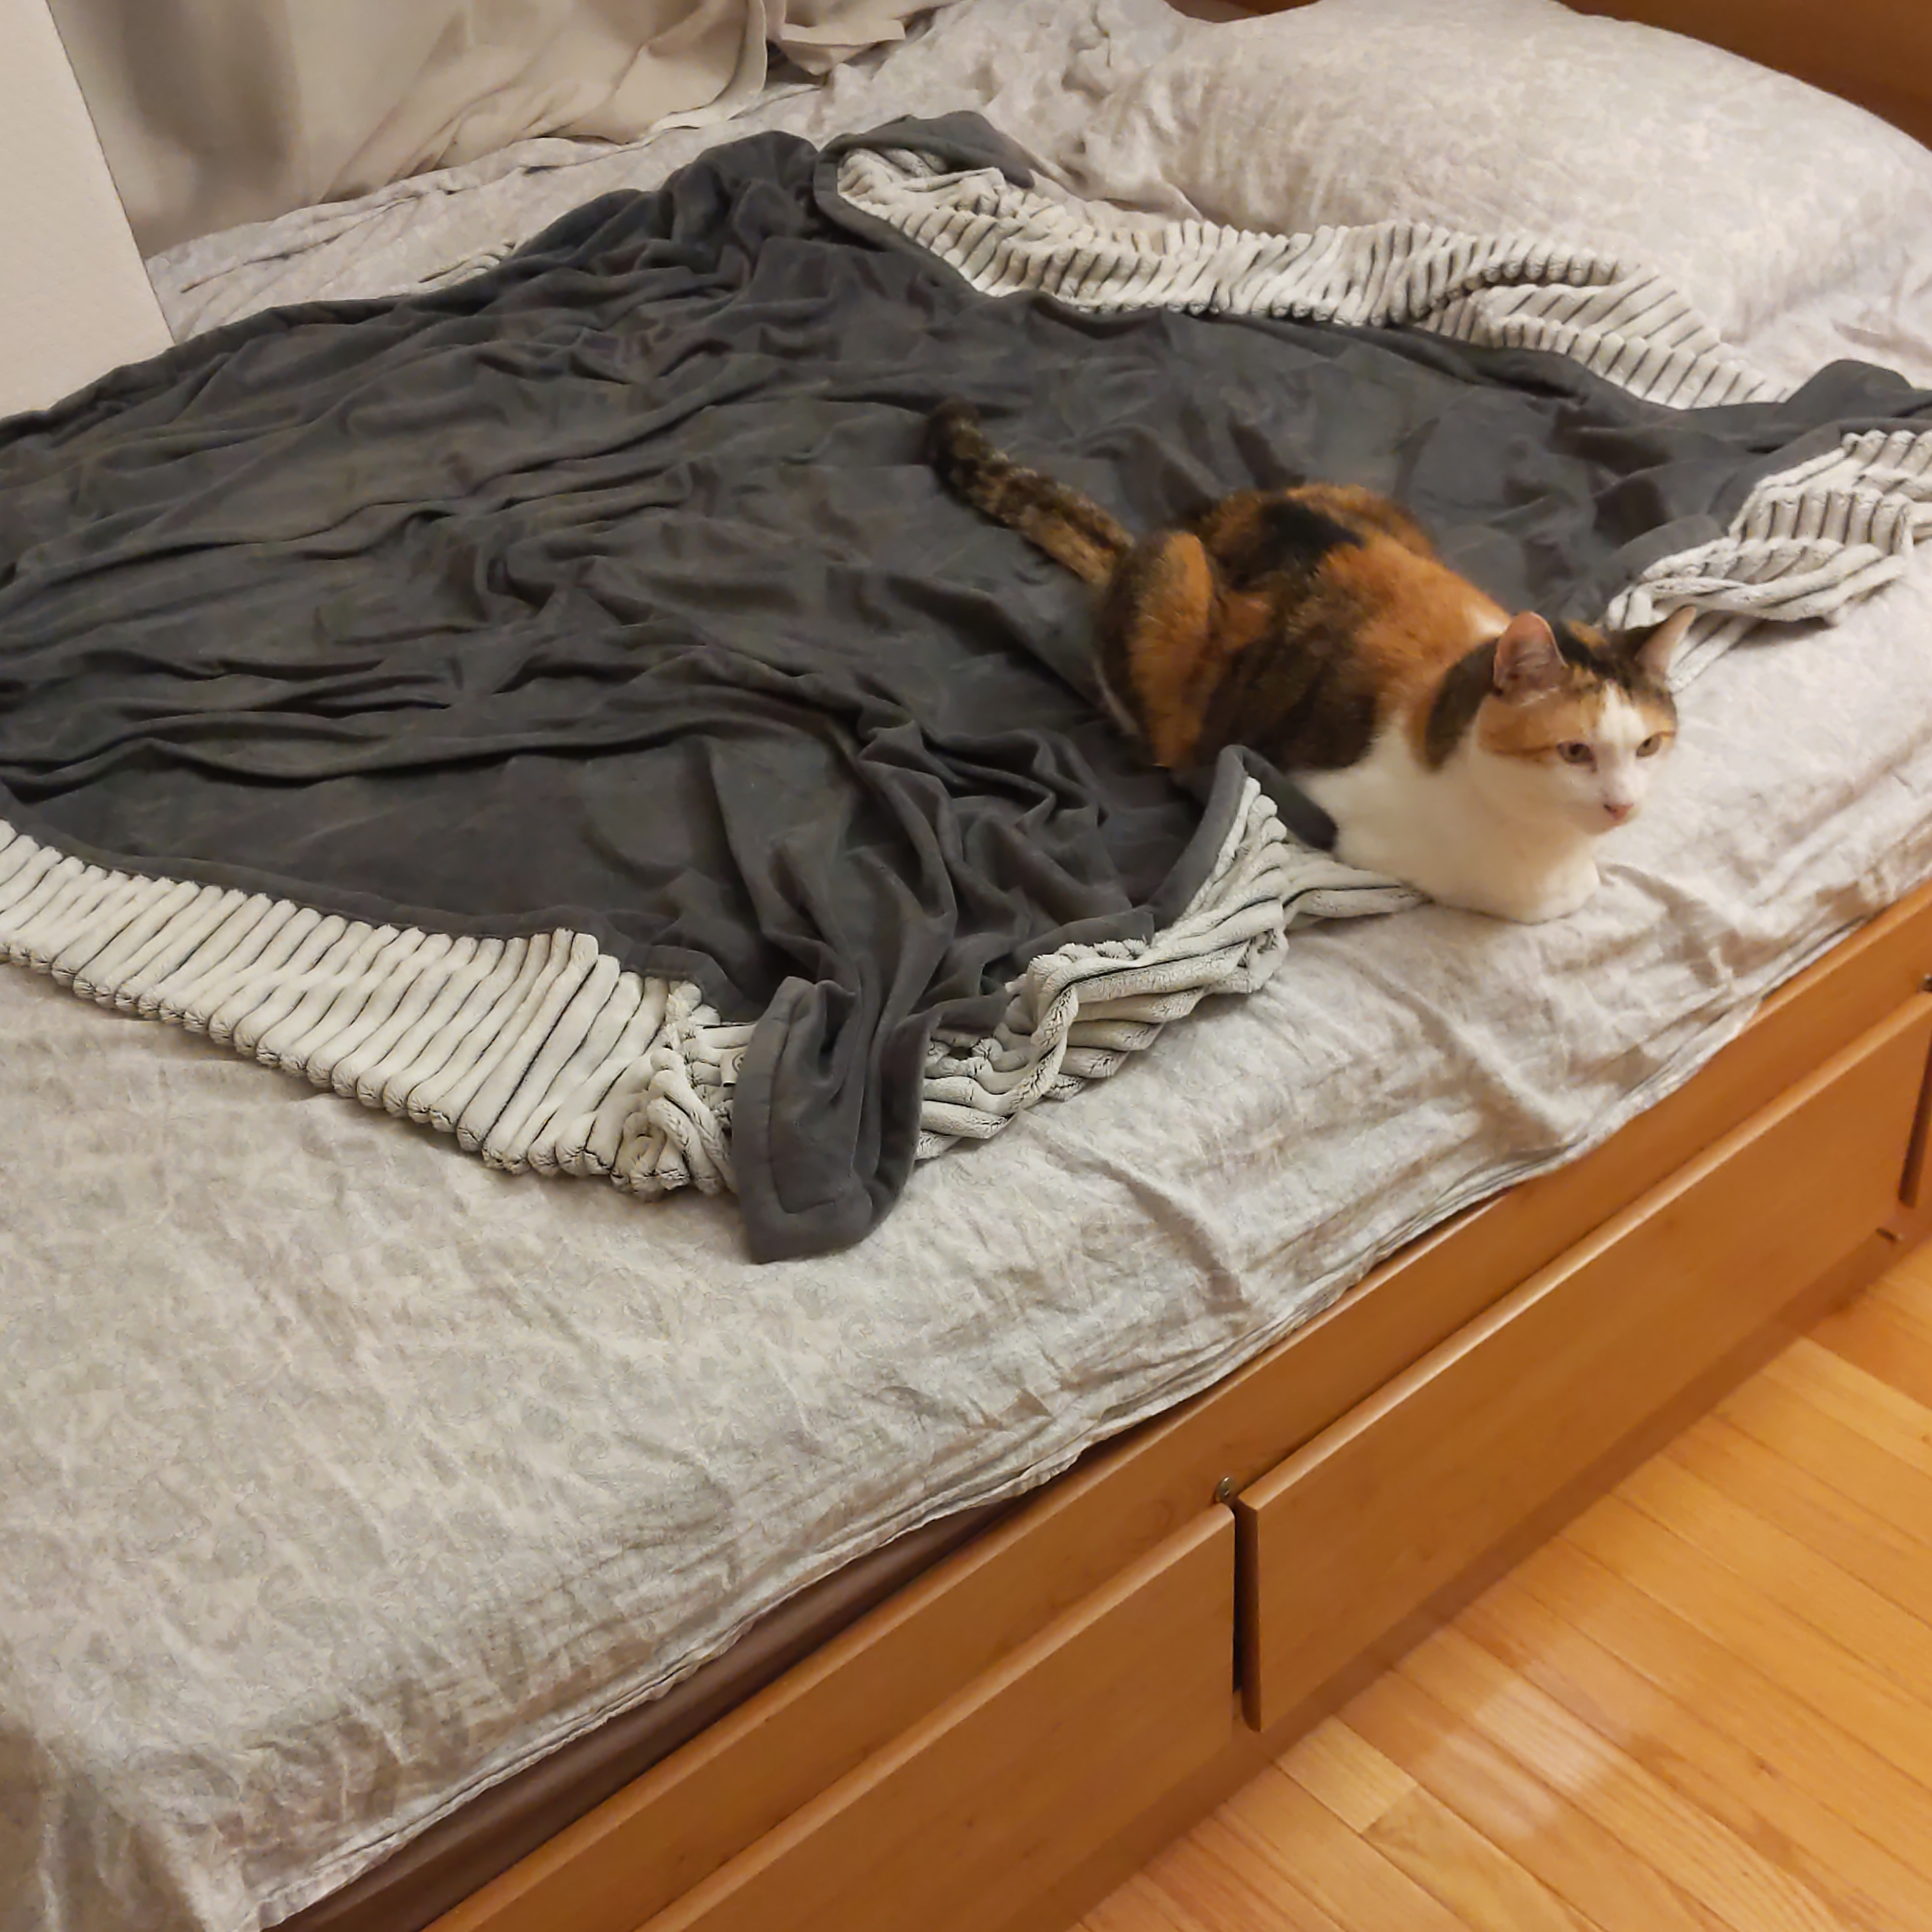Calico: (924, 403, 1697, 925)
